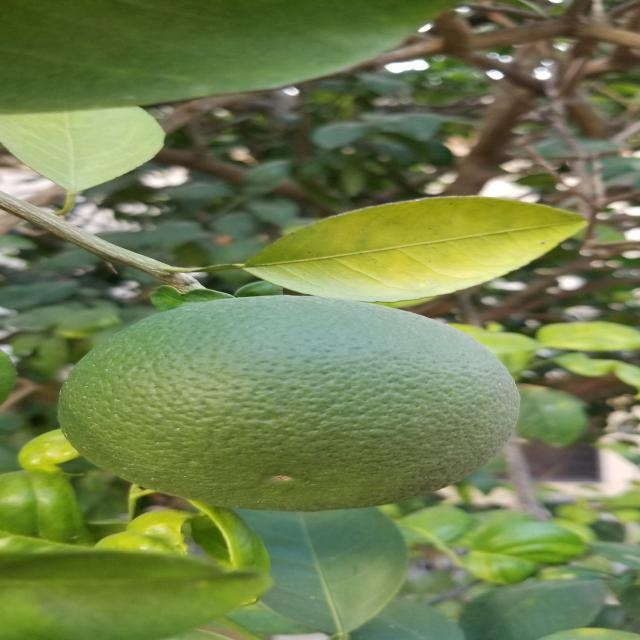agrume: (49, 289, 529, 514)
